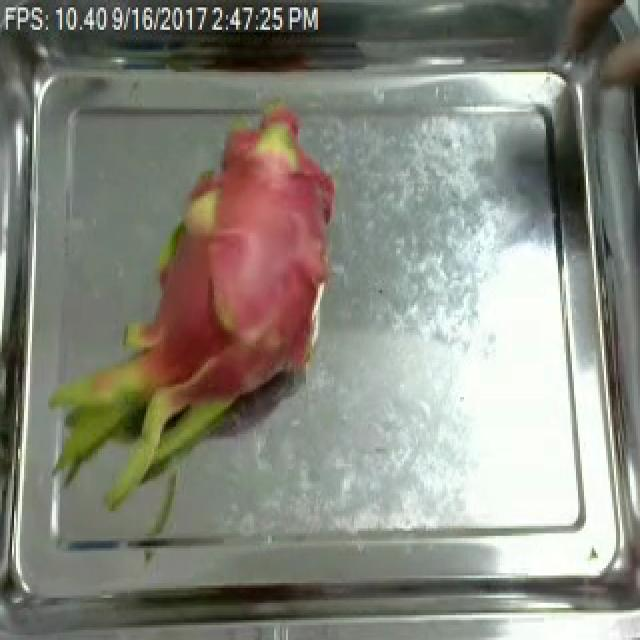fruit: (48, 104, 338, 516)
